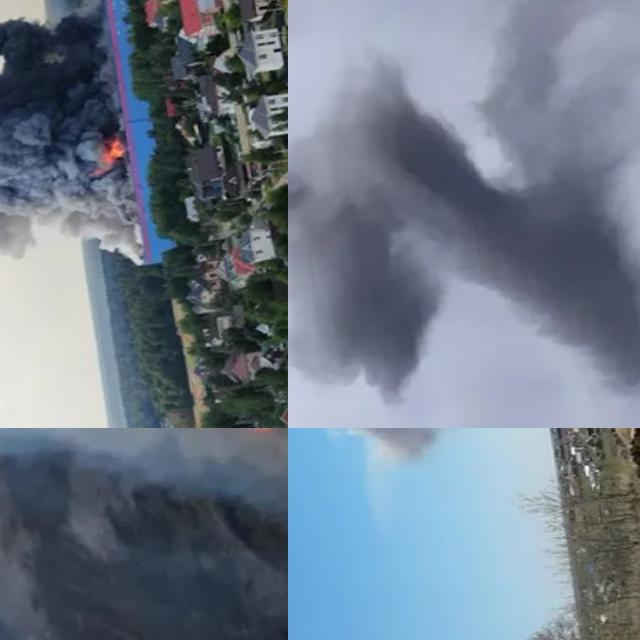smoke: (288, 15, 640, 428), (0, 428, 288, 597), (0, 4, 144, 311), (288, 428, 549, 488)
